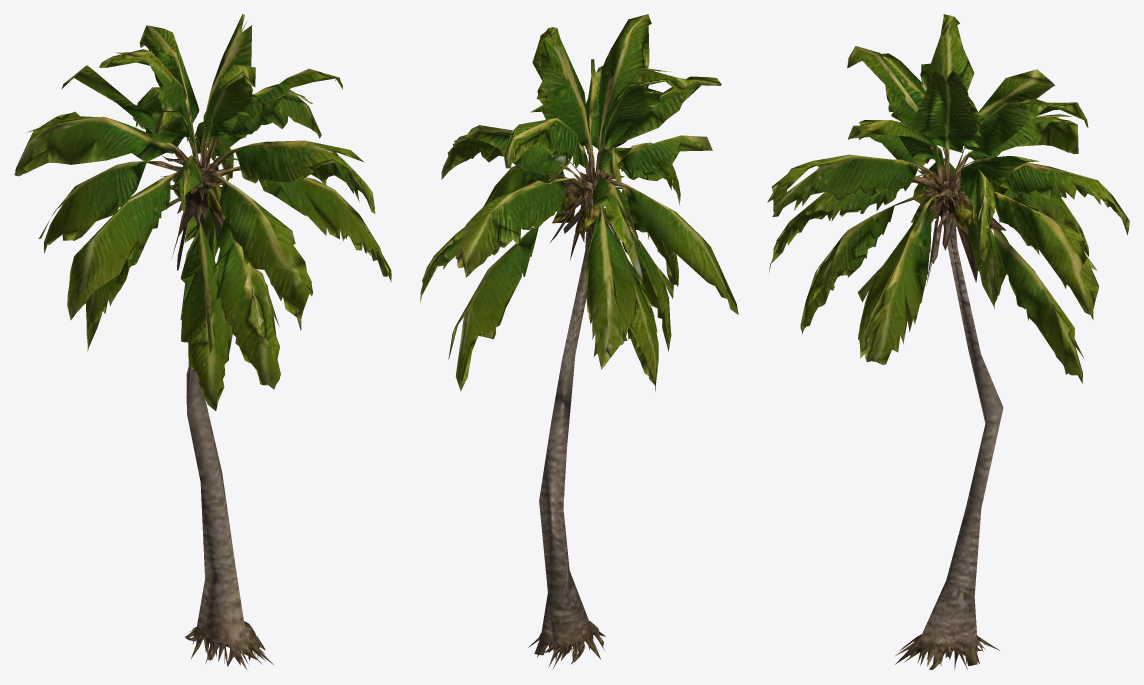
The model's file is SM_PalmTree_LOD.glb.
3 renders of one model, left to right at view 1: azimuth 30°, elevation 25°; view 2: azimuth 150°, elevation 25°; view 3: azimuth 270°, elevation 25°, orthographic. The views are drawn at different scales.
Parts seen in each view (by area): view 1: tripo_node_db0a145d-a4ec-4f0e-97be-0cc15c11610b; view 2: tripo_node_db0a145d-a4ec-4f0e-97be-0cc15c11610b; view 3: tripo_node_db0a145d-a4ec-4f0e-97be-0cc15c11610b.
Part boxes in pixels (<box>): tripo_node_db0a145d-a4ec-4f0e-97be-0cc15c11610b: <box>14,14,391,669</box>; tripo_node_db0a145d-a4ec-4f0e-97be-0cc15c11610b: <box>420,14,738,669</box>; tripo_node_db0a145d-a4ec-4f0e-97be-0cc15c11610b: <box>767,14,1129,670</box>.
Bounding box in the file's own units: 0.4703 × 0.9708 × 0.5319.
1 material, 1 textured.
